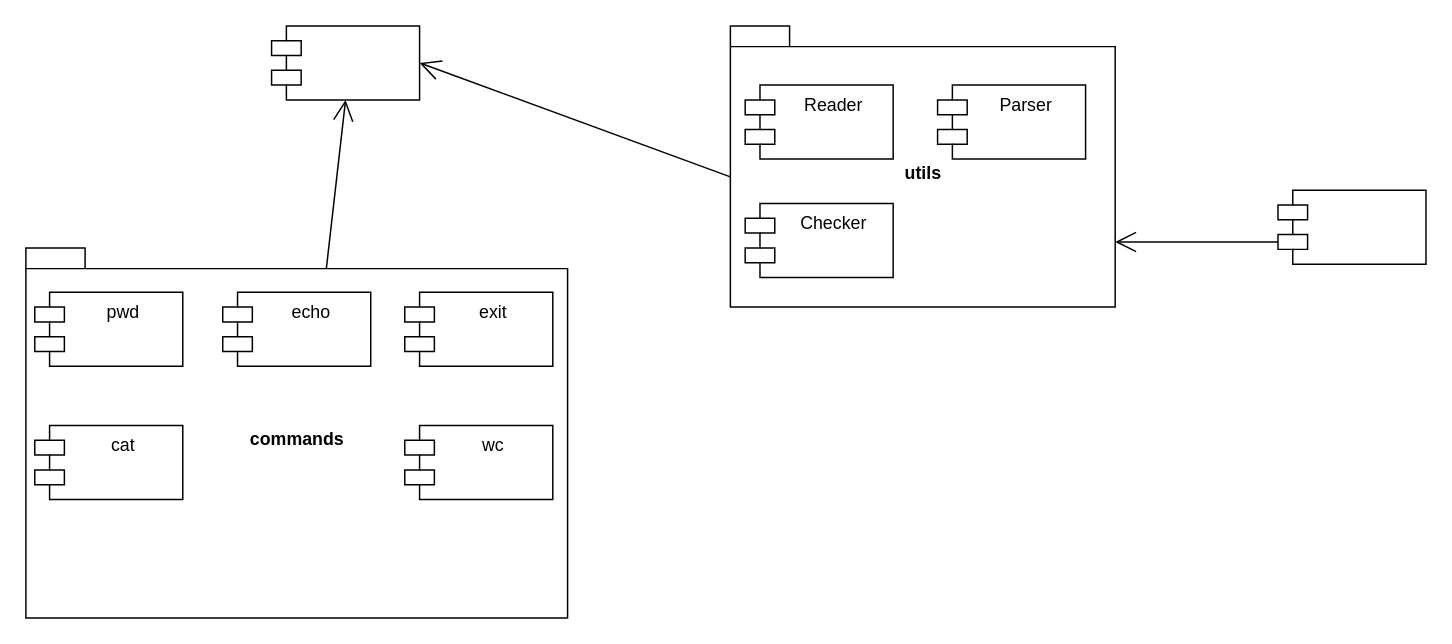
Some shapes in this 1452 by 644 pixel diagram are drawn without their labels. The shapes that lost their labels are listed below. From the top down, each one's centre as x and y in pixels, then its label:
pixel 345 62: Executor
pixel 1351 226: Local storage
